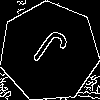J: (24, 27, 71, 78)
